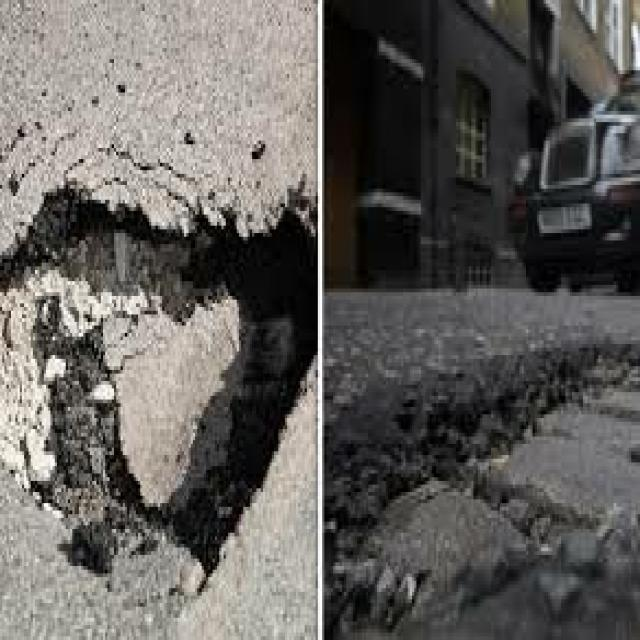Pothole: (2, 177, 326, 640), (322, 196, 640, 603)
